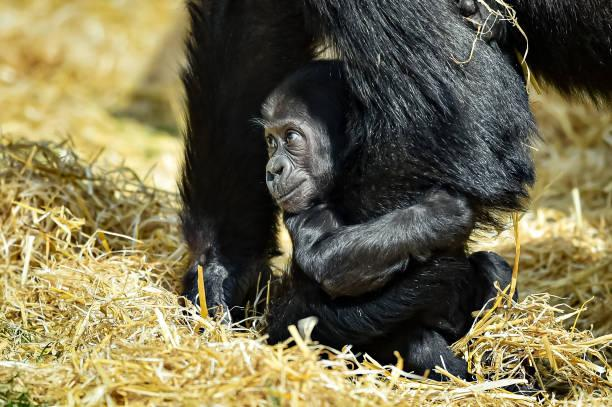gorille_Autres: (227, 46, 498, 388)
